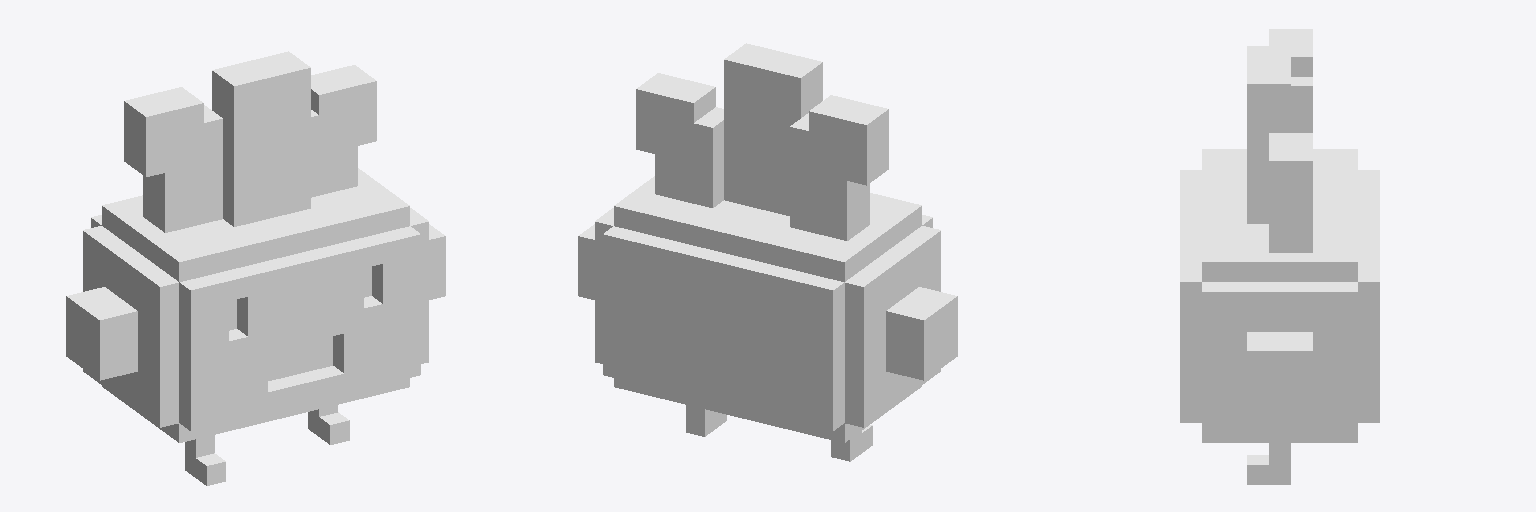
The model's file is Voxels-20.obj.
3 renders of one model, left to right at view 1: azimuth 30°, elevation 25°; view 2: azimuth 150°, elevation 25°; view 3: azimuth 270°, elevation 25°, orthographic.
Visible parts, largest first — view 1: Voxels-20; view 2: Voxels-20; view 3: Voxels-20.
Part boxes in pixels (bbox=[...]): Voxels-20: bbox=[66, 51, 445, 485]; Voxels-20: bbox=[578, 43, 957, 461]; Voxels-20: bbox=[1180, 29, 1379, 484].
Bounding box in the file's own units: 18 × 19 × 9.